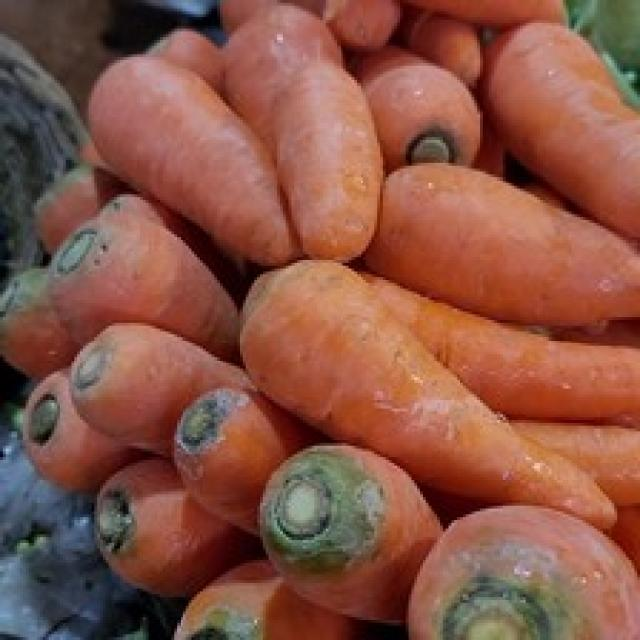Fresh_Carrot: (240, 274, 640, 574), (225, 407, 498, 640), (344, 121, 640, 324), (128, 313, 324, 616), (0, 220, 233, 464), (67, 53, 295, 258), (234, 6, 384, 264), (415, 482, 640, 640)
